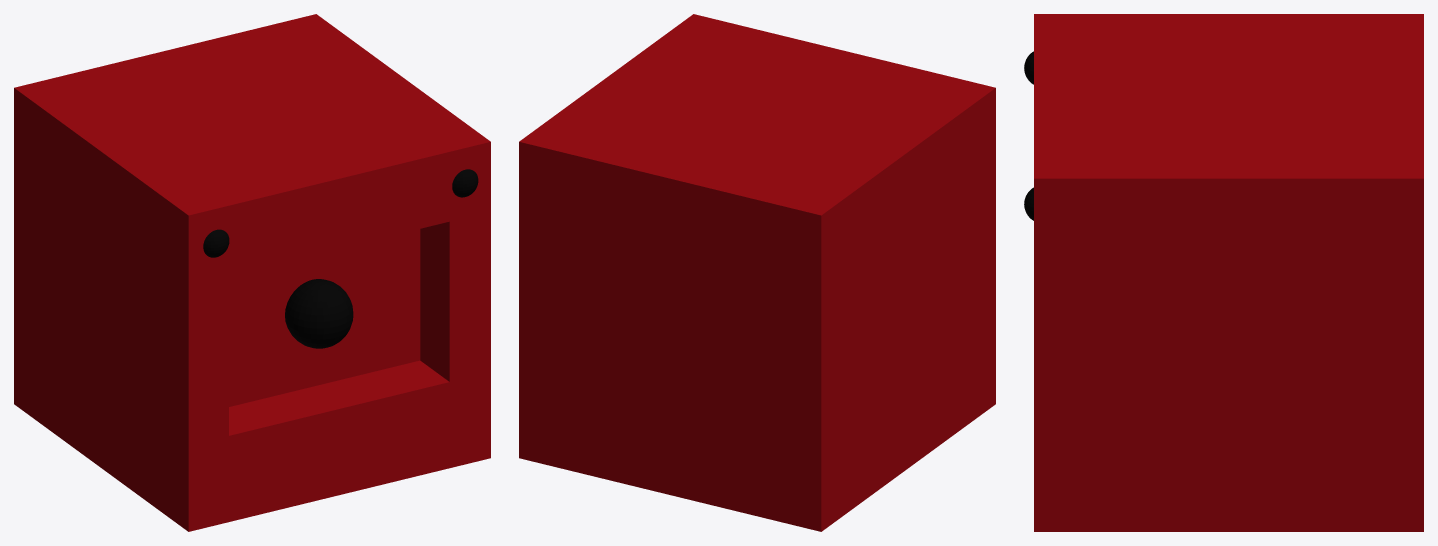
Rendered from Fire alarm button.fbx.
3 renders of one model, left to right at view 1: azimuth 30°, elevation 25°; view 2: azimuth 150°, elevation 25°; view 3: azimuth 270°, elevation 25°, orthographic. The views are drawn at different scales.
Visible parts, largest first — view 1: Cube, Sphere, Sphere.001, Sphere.002; view 2: Cube; view 3: Cube.
Boxes of the visible parts, x1=… form: Cube: x1=14, y1=14, x2=490, y2=531; Sphere: x1=285, y1=279, x2=353, y2=348; Sphere.001: x1=452, y1=169, x2=478, y2=197; Sphere.002: x1=203, y1=229, x2=229, y2=257; Cube: x1=519, y1=14, x2=995, y2=531; Cube: x1=1034, y1=14, x2=1423, y2=531.
Bounding box in the file's own units: 20 × 20 × 20.51.
